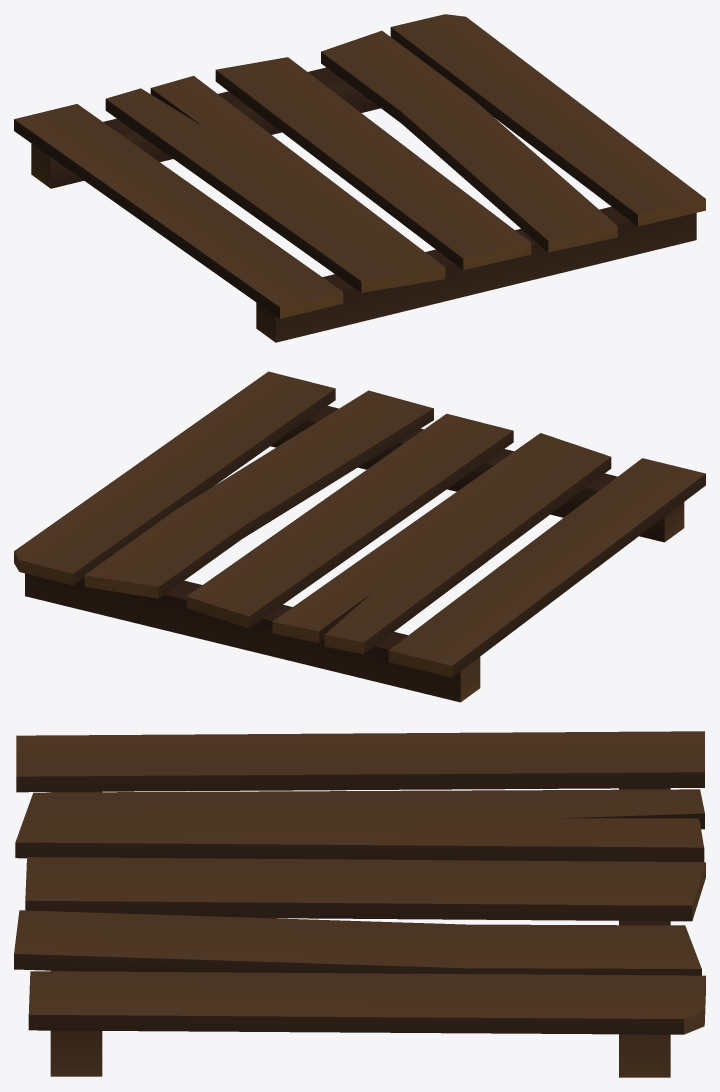
The model's file is Wooden_Pallet_1A.fbx.
3 renders of one model, top to bottom at view 1: azimuth 30°, elevation 25°; view 2: azimuth 150°, elevation 25°; view 3: azimuth 270°, elevation 25°, orthographic. The views are drawn at different scales.
Visible parts, largest first — view 1: Wooden_Pallet_1A; view 2: Wooden_Pallet_1A; view 3: Wooden_Pallet_1A.
Boxes of the visible parts, x1=… form: Wooden_Pallet_1A: x1=14, y1=14, x2=705, y2=342; Wooden_Pallet_1A: x1=14, y1=371, x2=705, y2=702; Wooden_Pallet_1A: x1=14, y1=731, x2=705, y2=1077.
Size of the model in its own units: 198 by 20 by 201.
